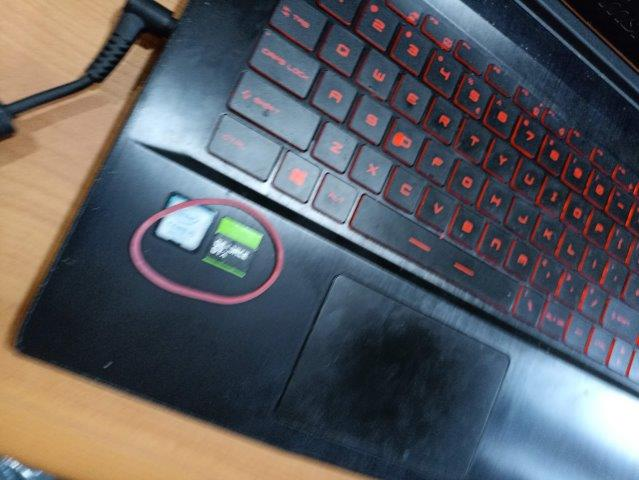karet: (129, 198, 284, 305)
